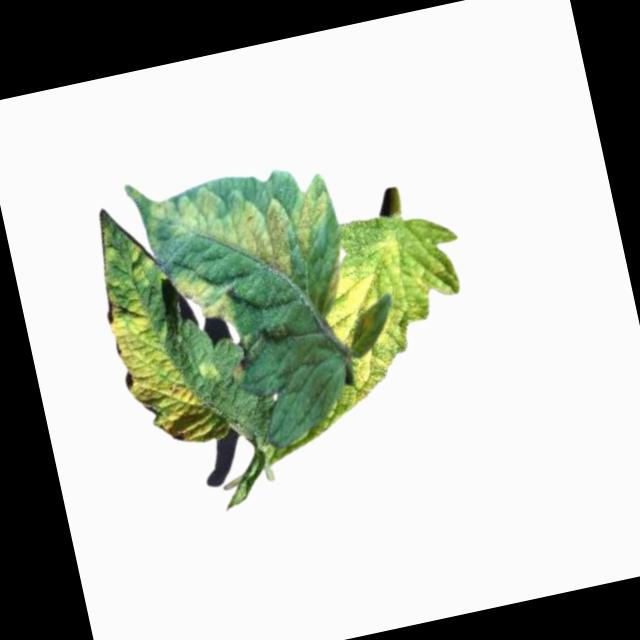Leaf_Mold: (84, 191, 227, 454), (310, 216, 492, 418), (139, 161, 340, 299), (170, 261, 248, 340)
